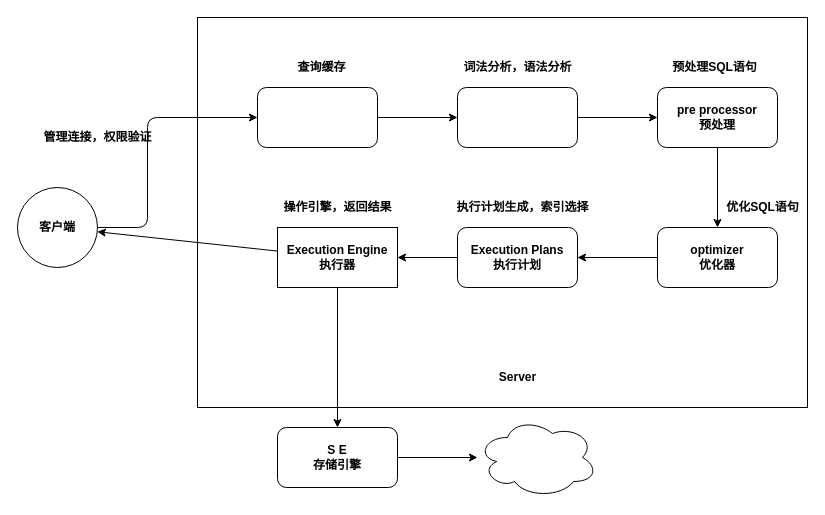
Some shapes in this 825 by 515 pixel diagram are drawn without their labels. The shapes that lost their labels are listed below. From the top down, each one's box as (x1, y1, x2, y2) in pixels, then its label:
(256, 86, 378, 148): query_cache 查询缓存
(456, 86, 578, 148): parser 解析器
(476, 416, 598, 498): 磁盘
